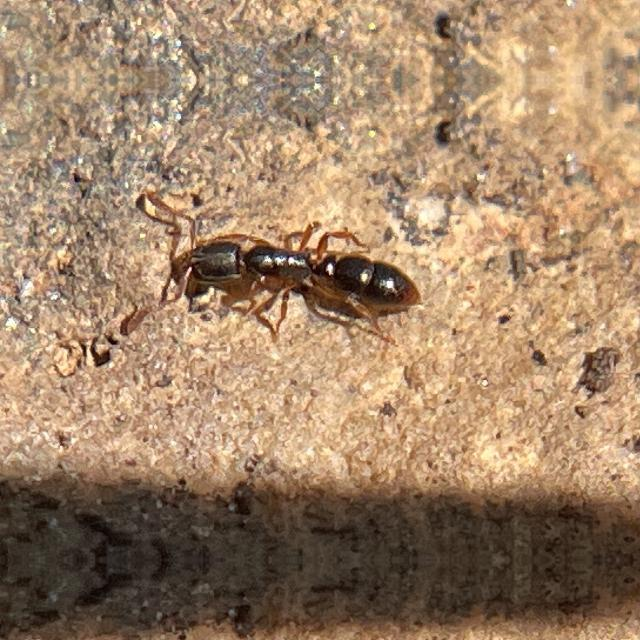Ponera: (121, 181, 431, 341)
